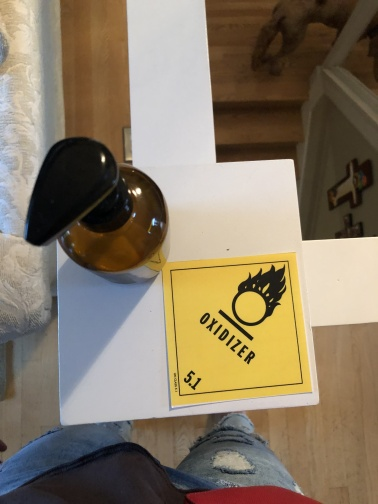Oxidizer: (162, 252, 314, 409)
